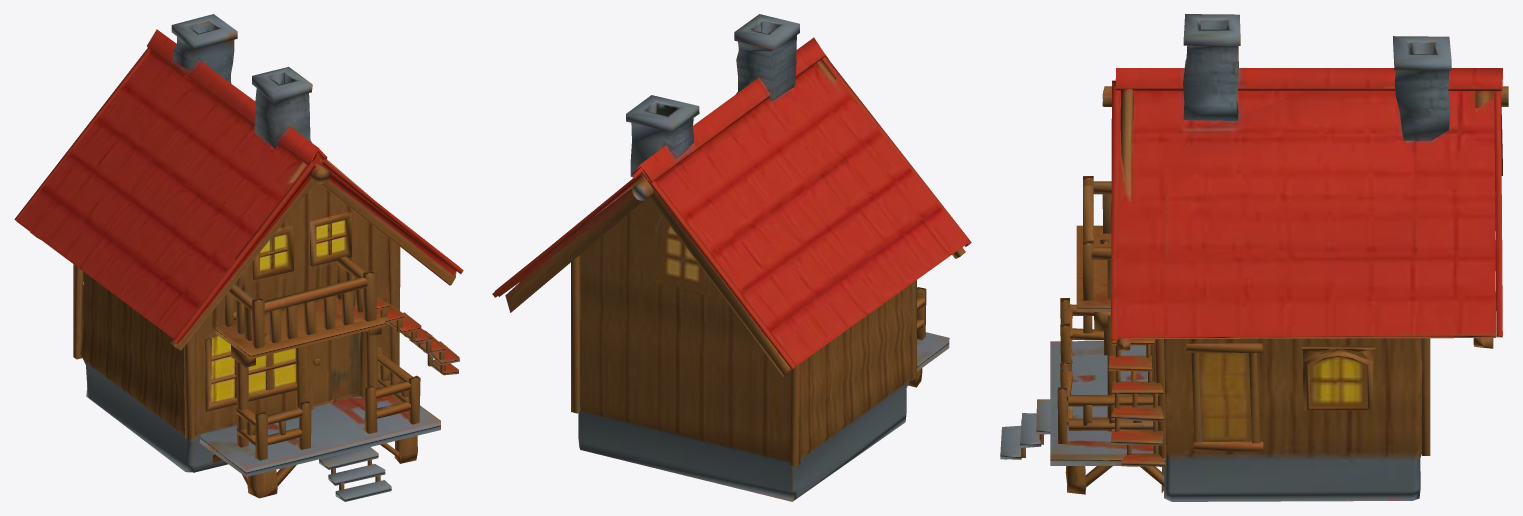
The model's file is alpine_hut.glb.
3 views of the same model, side by side, from view 1: azimuth 30°, elevation 25°; view 2: azimuth 150°, elevation 25°; view 3: azimuth 270°, elevation 25° (orthographic). The views are drawn at different scales.
Size of the model in its own units: 0.7529 by 0.8838 by 0.9565.
1 material, 1 textured.
